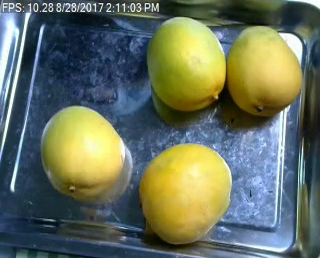Mango: (139, 143, 232, 244), (42, 106, 125, 200), (146, 18, 229, 111), (230, 28, 305, 118)
